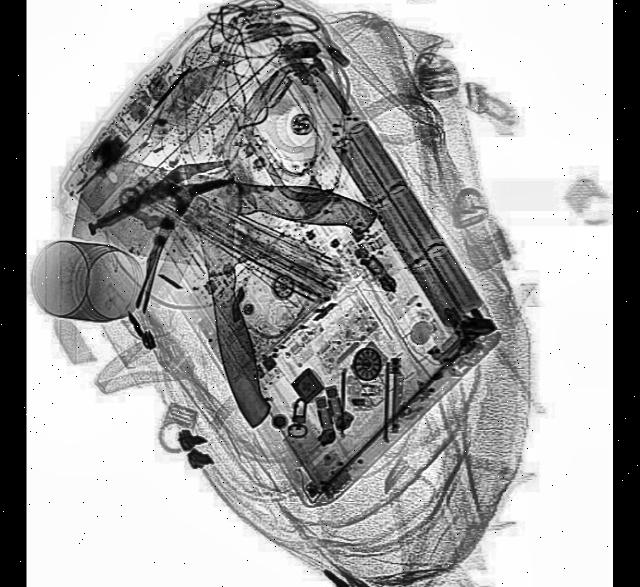Knife: (72, 136, 380, 301), (165, 65, 280, 432)
